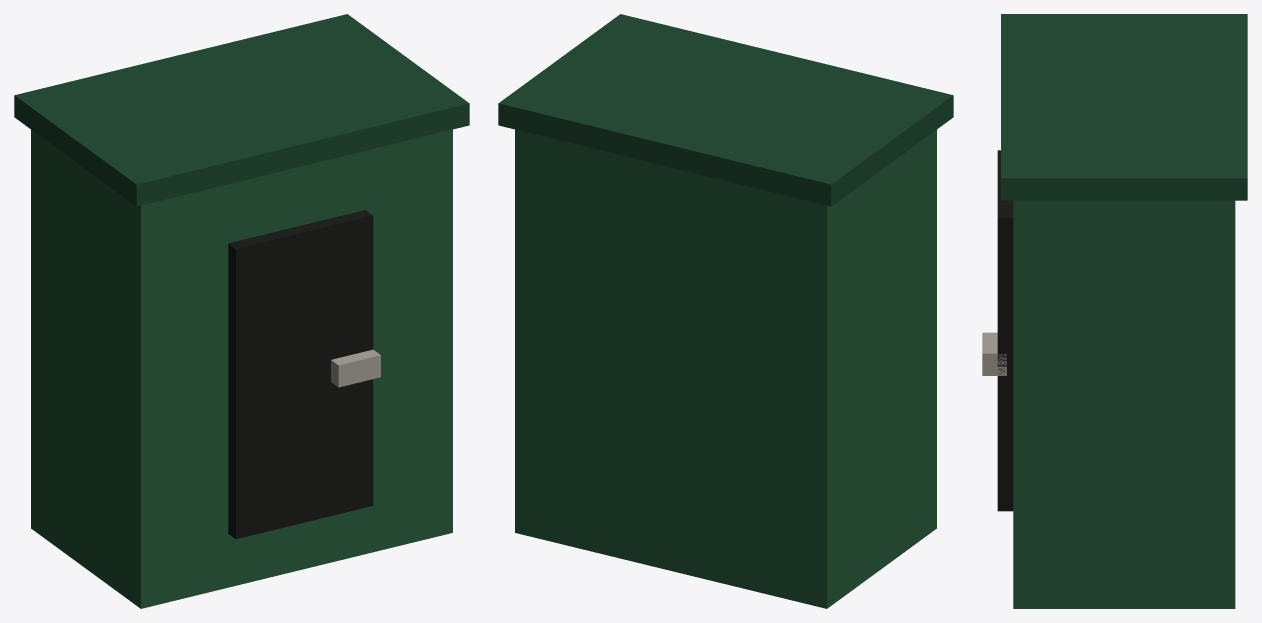
File: power-kiosk.glb
3 renders of one model, left to right at view 1: azimuth 30°, elevation 25°; view 2: azimuth 150°, elevation 25°; view 3: azimuth 270°, elevation 25°, orthographic.
Bounding box in the file's own units: 1.26 × 1.56 × 0.86.
